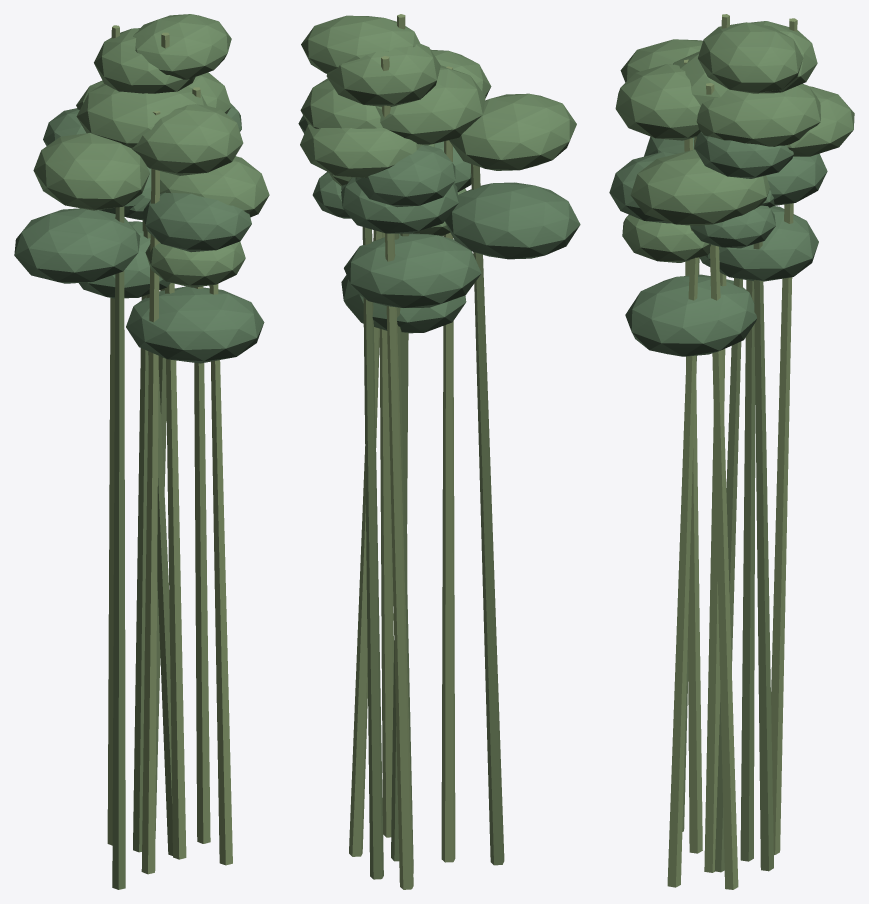
Rendered from bamboo_b.glb.
The picture shows the model from 3 angles, left to right: view 1: azimuth 30°, elevation 25°; view 2: azimuth 150°, elevation 25°; view 3: azimuth 270°, elevation 25°; orthographic projection. The views are drawn at different scales.
Parts seen in each view (by area): view 1: bamboo_b; view 2: bamboo_b; view 3: bamboo_b.
Part boxes in pixels (x1,y1,x2,y2): bamboo_b: (14,14,269,889); bamboo_b: (298,14,580,889); bamboo_b: (609,14,854,889).
Bounding box in the file's own units: 3.49 × 11.51 × 3.01.
